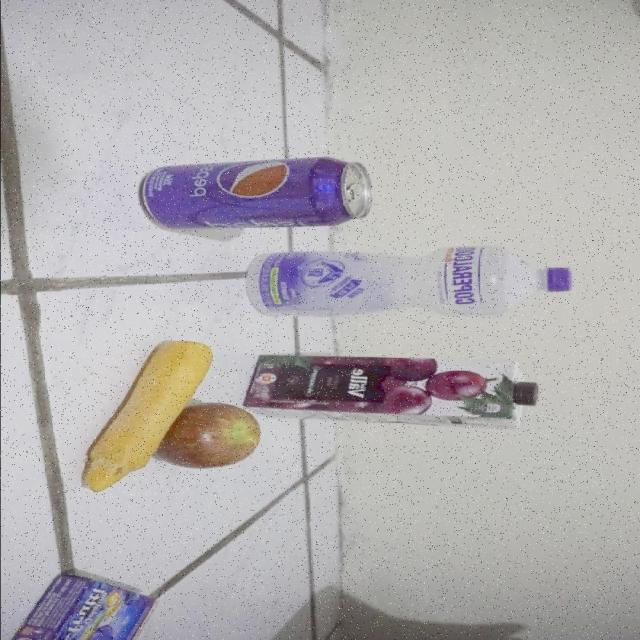AlcoholBottle: (244, 242, 573, 318)
Apple: (156, 401, 261, 470)
Carrot: (84, 340, 213, 492)
Gelatine: (9, 572, 163, 640)
SodaCan: (136, 156, 374, 232)
